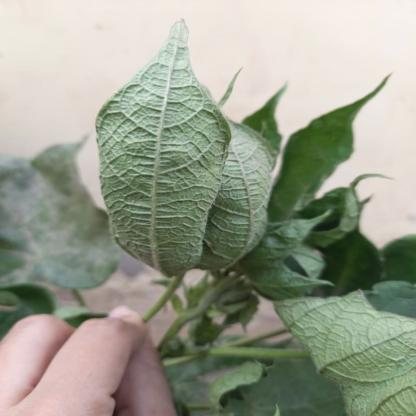curl_stage2: (106, 110, 221, 215), (285, 309, 411, 383), (205, 143, 269, 251), (111, 216, 208, 272), (275, 226, 343, 299), (220, 98, 283, 142), (165, 50, 199, 123), (346, 383, 416, 416), (241, 263, 292, 294)
